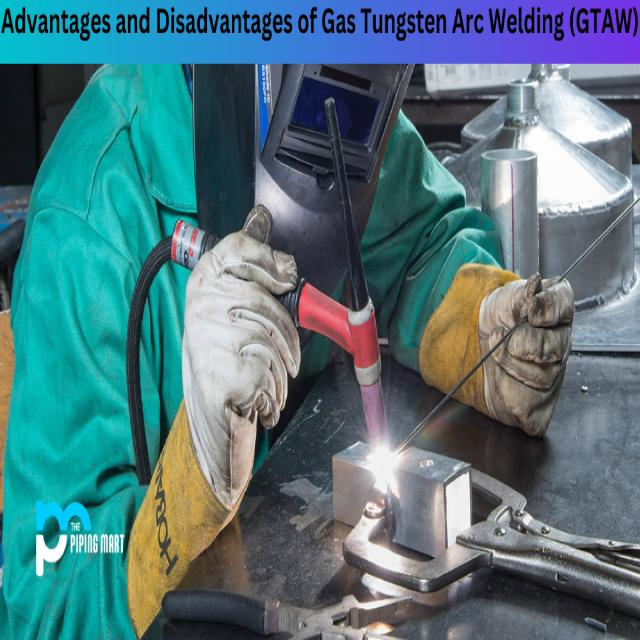welding: (365, 440, 393, 480)
